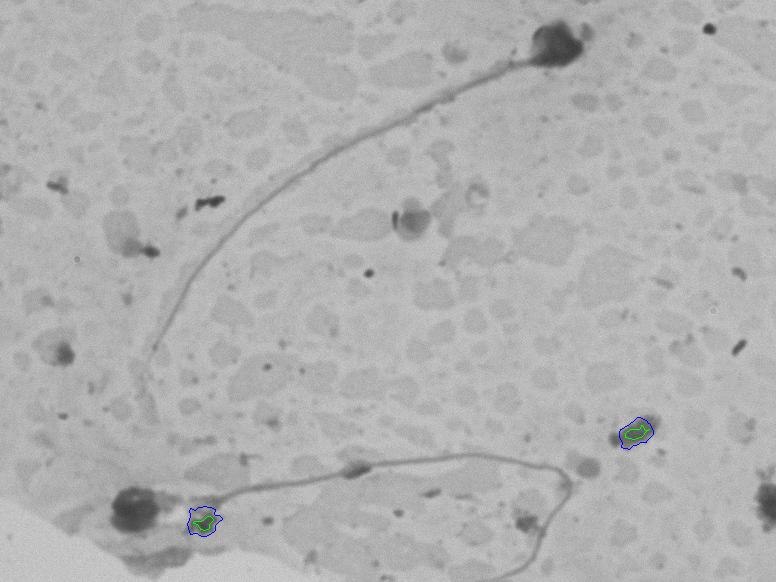Abnormal: (99, 15, 633, 371), (93, 421, 603, 570)
